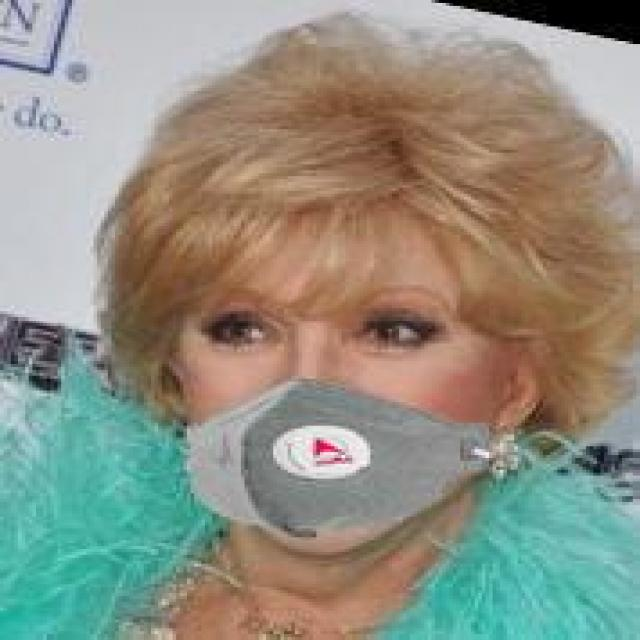mask: (79, 41, 597, 526)
